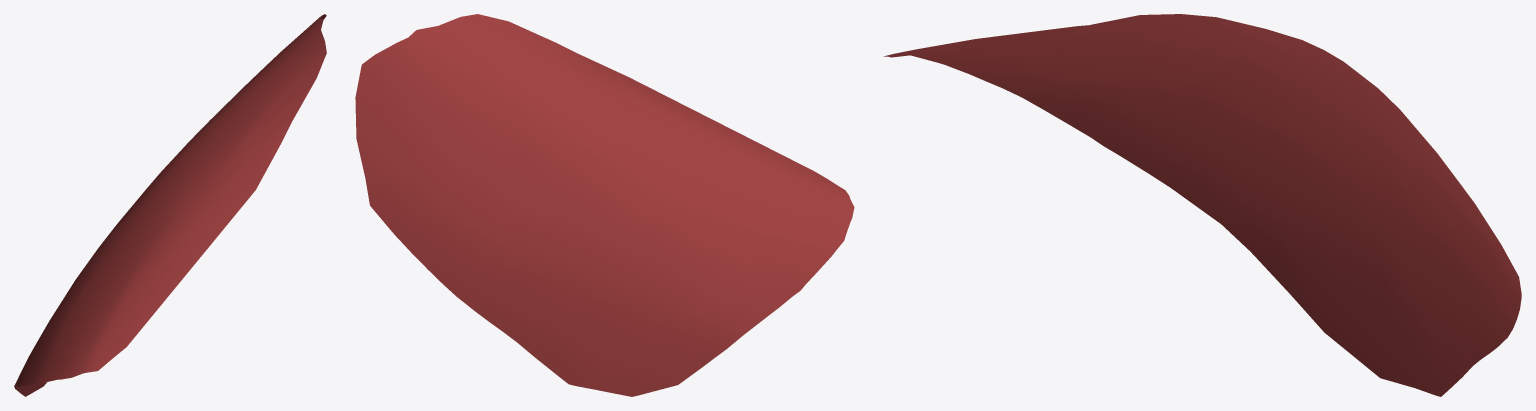
The model's file is serratus-posterior-superior-muscle-e3l.glb.
The picture shows the model from 3 angles, left to right: view 1: azimuth 30°, elevation 25°; view 2: azimuth 150°, elevation 25°; view 3: azimuth 270°, elevation 25°; orthographic projection. The views are drawn at different scales.
Parts seen in each view (by area): view 1: Serratus posterior superior muscle.e3l; view 2: Serratus posterior superior muscle.e3l; view 3: Serratus posterior superior muscle.e3l.
Boxes of the visible parts, x1,y1,x2,y2 form: Serratus posterior superior muscle.e3l: (14,14,326,396); Serratus posterior superior muscle.e3l: (355,14,854,396); Serratus posterior superior muscle.e3l: (884,14,1521,396).
Bounding box in the file's own units: 0.0193 × 0.0147 × 0.0152.
